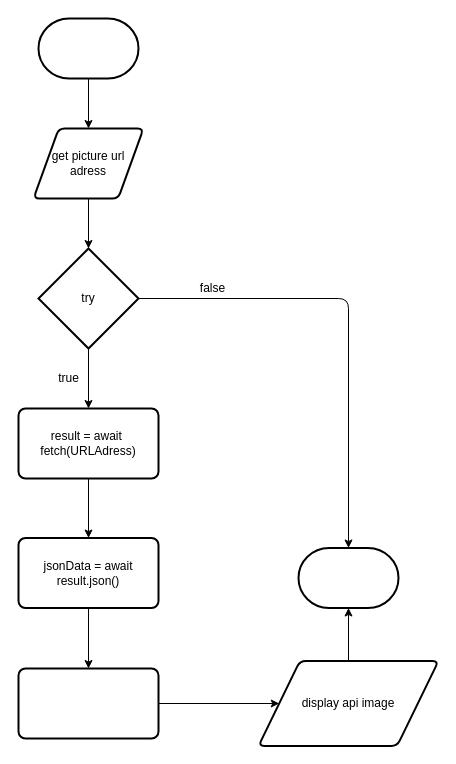
The diagram is 456 pixels wide and 764 high, and some of its shapes have lost their labels. The centre of each missing label's shape, as x and y in pixels:
"console.log(json.Data[0])" belongs at point 88,703.
"start" belongs at point 88,48.
"stop" belongs at point 348,577.
